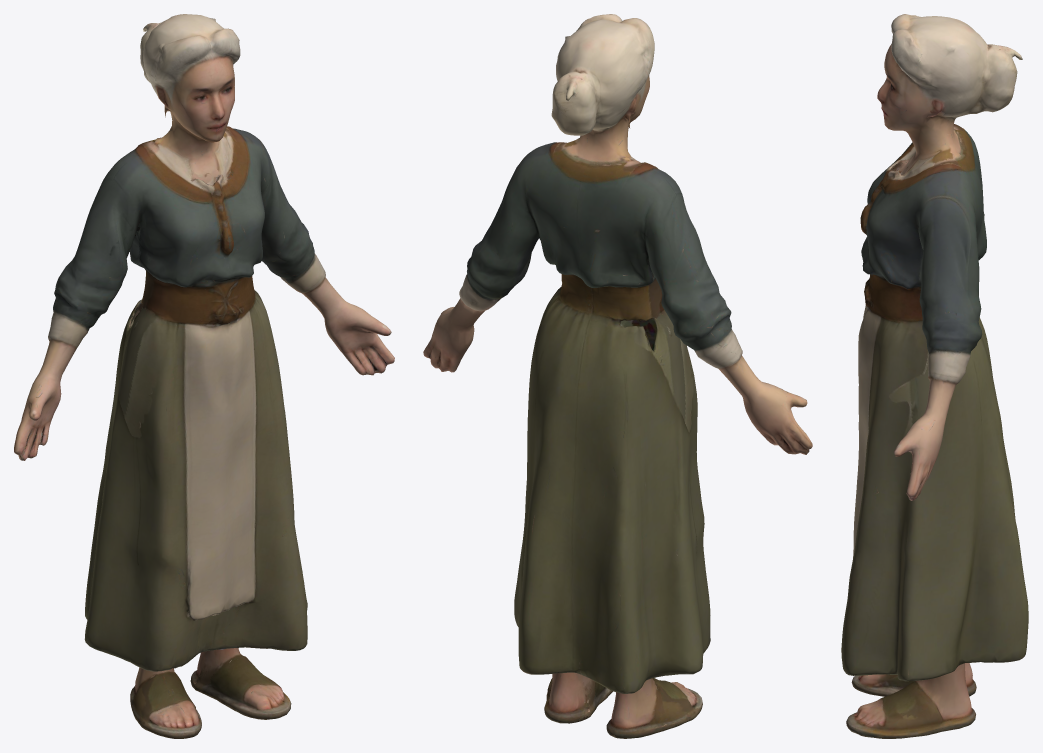
File: Meshy_AI_Nordic_Peasant_Woman_0319015059_texture.glb
The picture shows the model from 3 angles, left to right: view 1: azimuth 30°, elevation 25°; view 2: azimuth 150°, elevation 25°; view 3: azimuth 270°, elevation 25°; orthographic projection.
Bounding box in the file's own units: 1.18 × 2.01 × 0.4985.
1 material, 1 textured.
